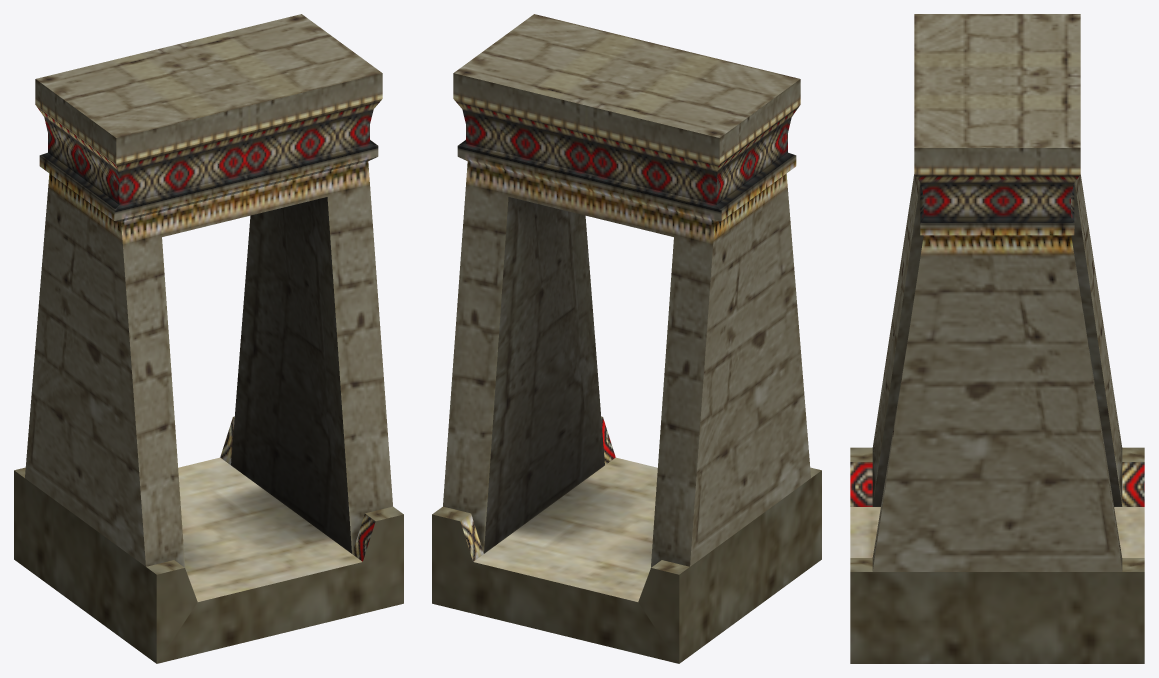
File: jun_tile_door.obj
3 views of the same model, side by side, from view 1: azimuth 30°, elevation 25°; view 2: azimuth 150°, elevation 25°; view 3: azimuth 270°, elevation 25° (orthographic). The views are drawn at different scales.
Visible parts, largest first — view 1: gate_jung; view 2: gate_jung; view 3: gate_jung.
Boxes of the visible parts, box(x1,y1,x2,y2) form: gate_jung: box(14, 14, 403, 663); gate_jung: box(432, 14, 821, 663); gate_jung: box(850, 14, 1144, 663).
Bounding box in the file's own units: 1.08 × 1.95 × 1.
Materials: 1 (1 with a texture image).
